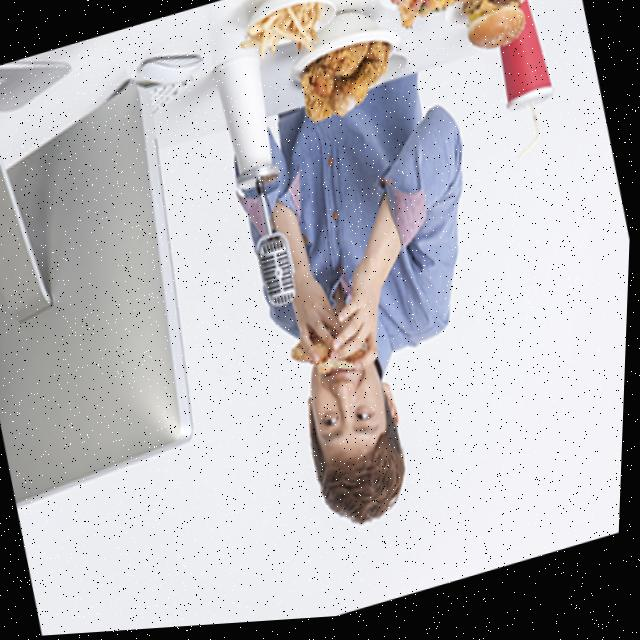eating-person: (184, 0, 559, 577)
